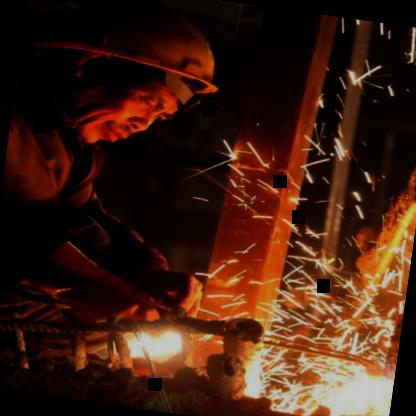helmet: (6, 0, 252, 185)
